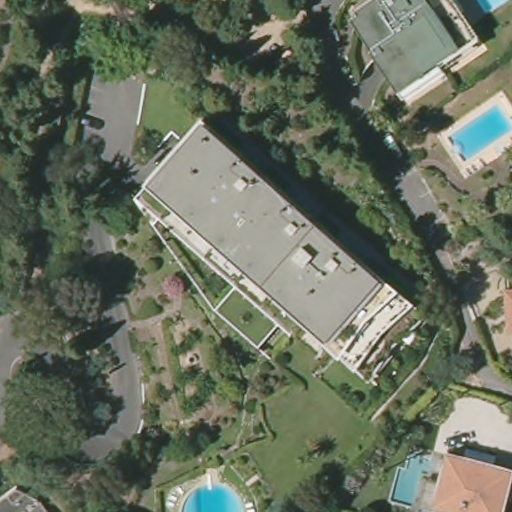pool: (449, 100, 512, 163), (171, 481, 248, 509), (390, 451, 429, 504), (469, 1, 512, 19)
